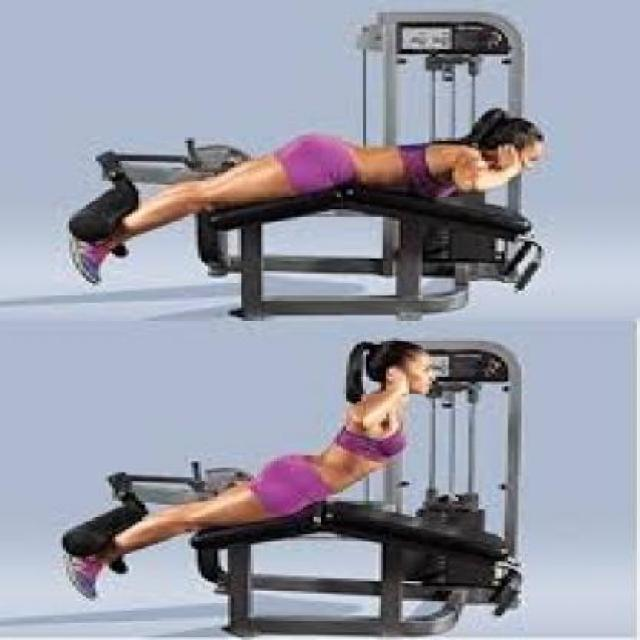reg curl machine: (51, 6, 557, 319), (54, 335, 534, 640)
